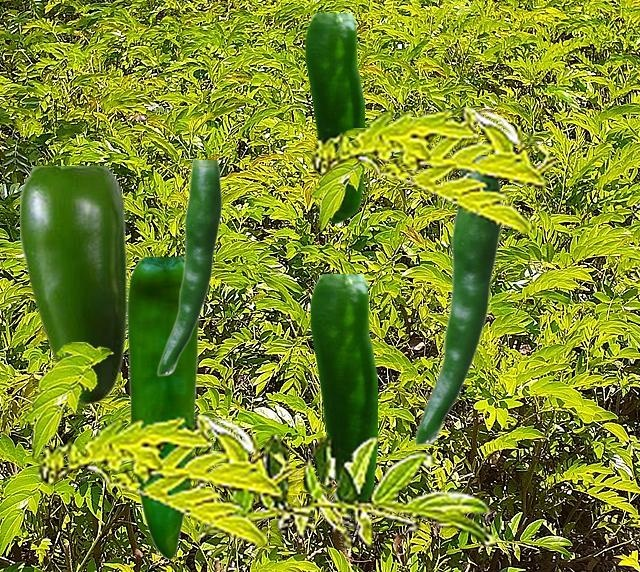green_chili: (20, 166, 126, 404), (413, 173, 500, 445), (127, 257, 198, 558), (310, 274, 376, 499), (156, 160, 220, 375), (305, 13, 363, 222)
